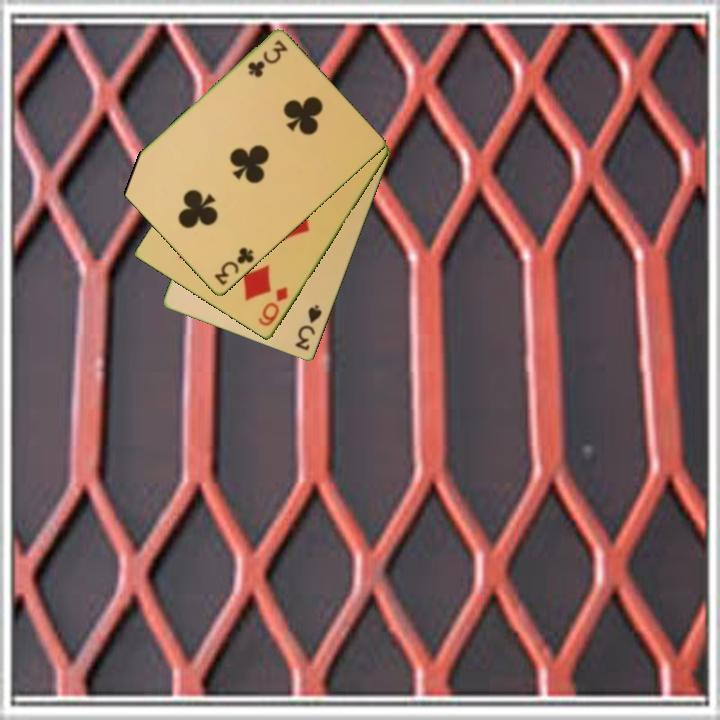3c: (211, 244, 257, 289), (244, 37, 290, 80)
3s: (292, 301, 325, 354)
6d: (254, 284, 291, 330)
